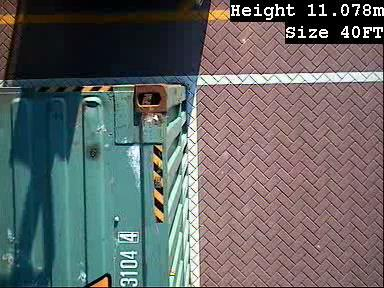groundmarker_2: (10, 1, 113, 138)
